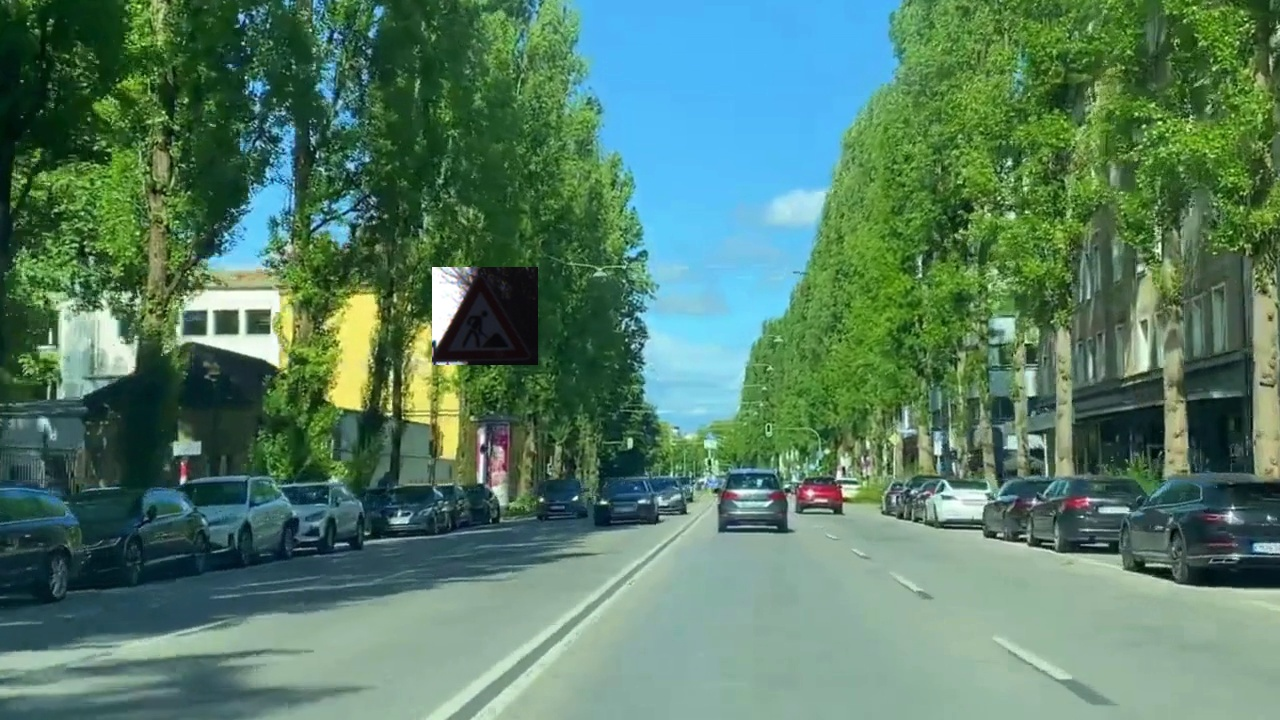Road work: (432, 267, 538, 365)
